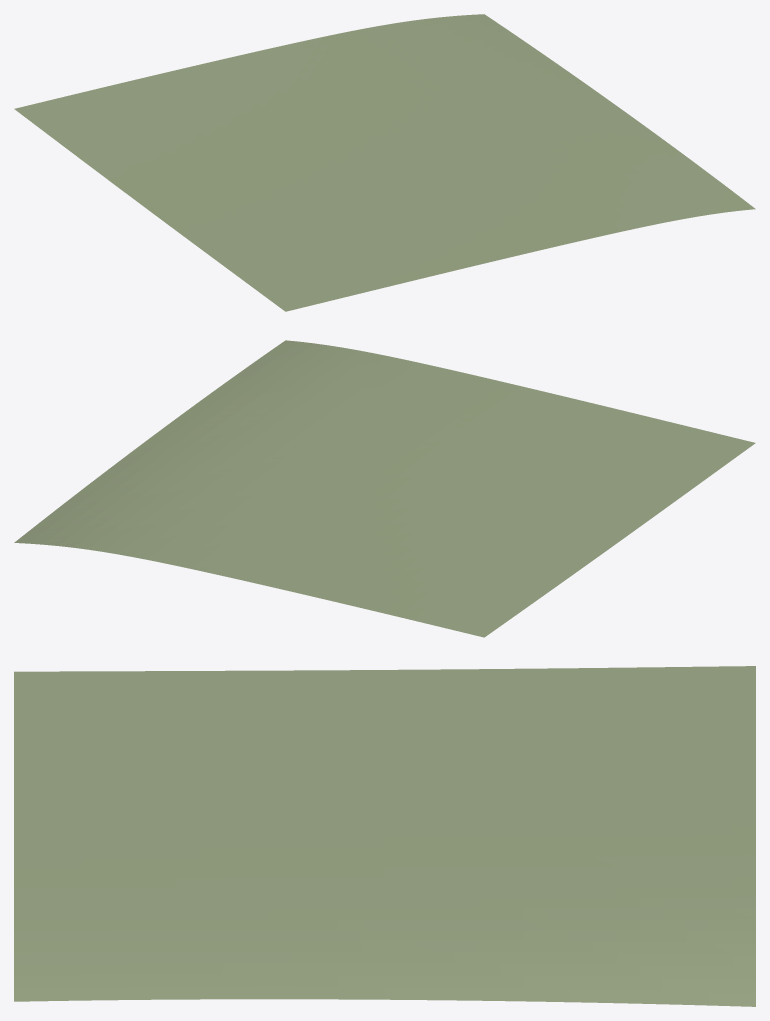
File: desert-13-26.glb
3 renders of one model, top to bottom at view 1: azimuth 30°, elevation 25°; view 2: azimuth 150°, elevation 25°; view 3: azimuth 270°, elevation 25°, orthographic. The views are drawn at different scales.
Parts seen in each view (by area): view 1: desert-13-26; view 2: desert-13-26; view 3: desert-13-26.
Boxes of the visible parts, bbox=[...] form: desert-13-26: bbox=[14, 14, 755, 311]; desert-13-26: bbox=[14, 340, 755, 637]; desert-13-26: bbox=[14, 666, 755, 1006].
Size of the model in its own units: 512 by 20.82 by 512.
